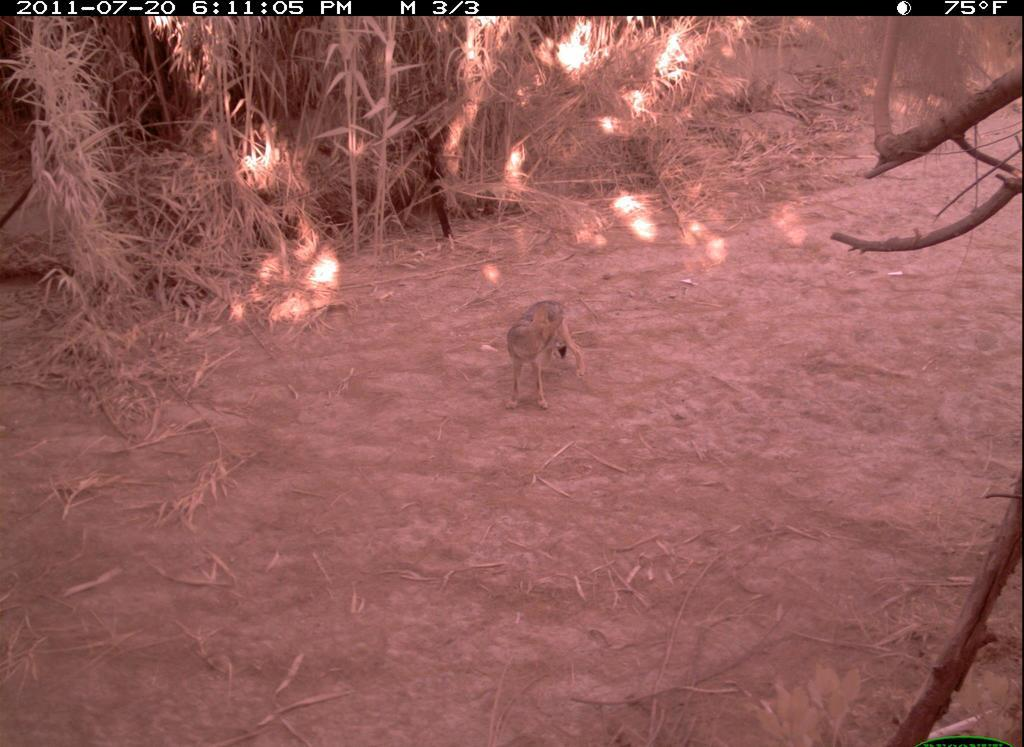coyote: (493, 299, 592, 409)
